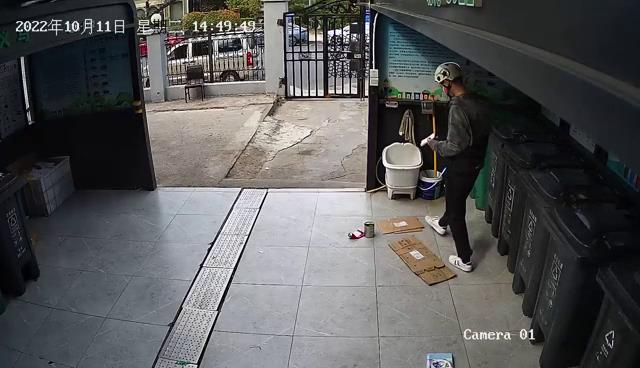lvzhipin: (363, 220, 378, 239), (347, 225, 364, 240)
person: (418, 59, 491, 276)
zhizhipin: (385, 234, 458, 288), (375, 213, 428, 236)
